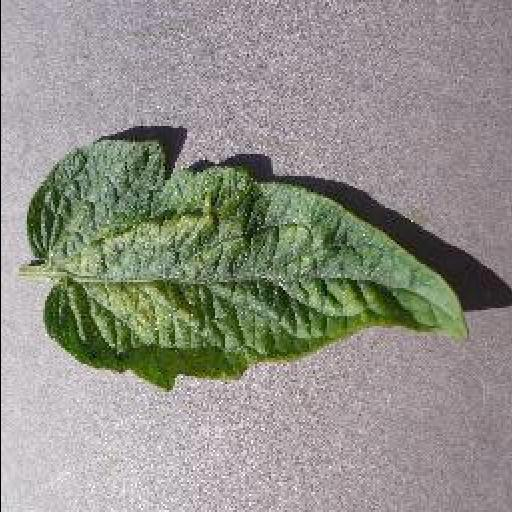disease_tomato: (30, 140, 468, 392)
